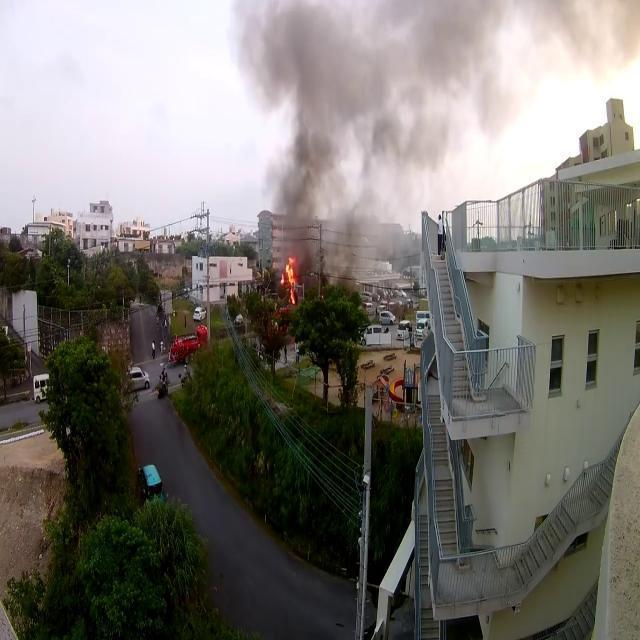Fire: (276, 254, 301, 306)
Smoke: (248, 0, 454, 243)
